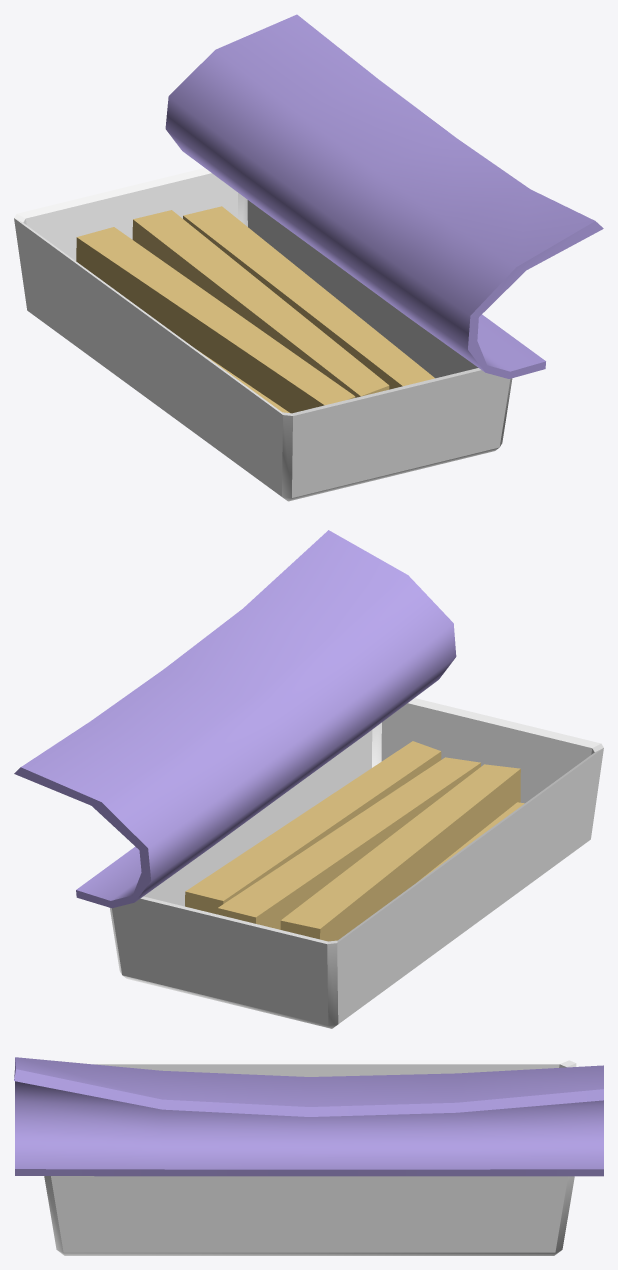
Rendered from Danmooji_open.fbx.
3 renders of one model, top to bottom at view 1: azimuth 30°, elevation 25°; view 2: azimuth 150°, elevation 25°; view 3: azimuth 270°, elevation 25°, orthographic. The views are drawn at different scales.
Parts seen in each view (by area): view 1: danmuji_opened; view 2: danmuji_opened; view 3: danmuji_opened.
Part boxes in pixels (x1=…): danmuji_opened: x1=14, y1=14, x2=603, y2=501; danmuji_opened: x1=14, y1=530, x2=603, y2=1028; danmuji_opened: x1=14, y1=1057, x2=603, y2=1255.
Size of the model in its own units: 14.95 by 10.43 by 25.09.
